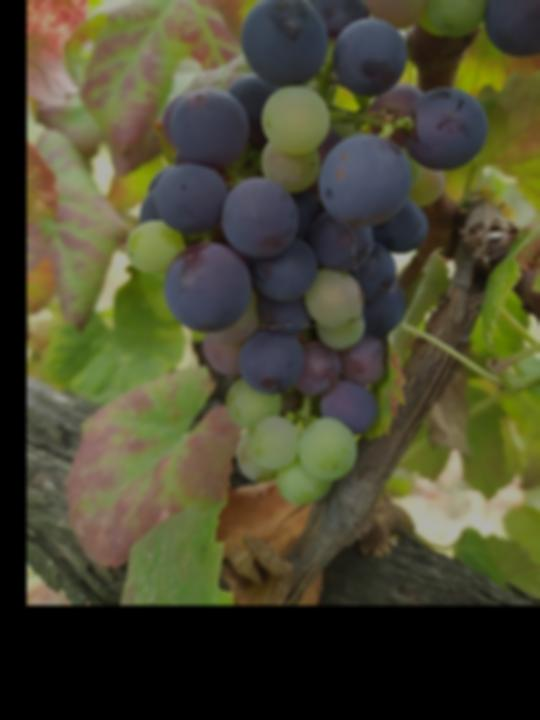grape: (124, 0, 493, 508)
